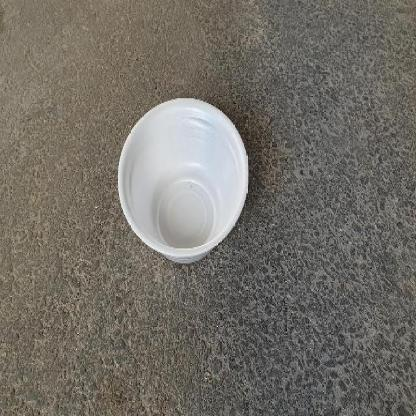Glass Cup: (117, 98, 250, 263), (118, 97, 249, 263)
